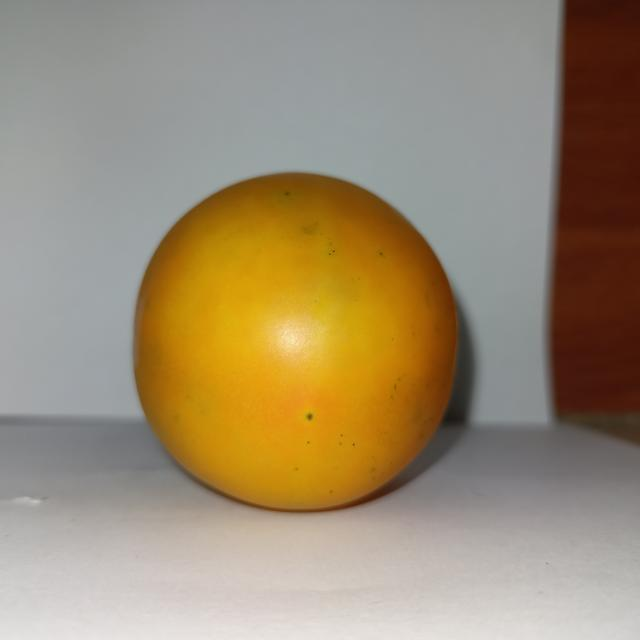Red: (131, 169, 460, 513)
